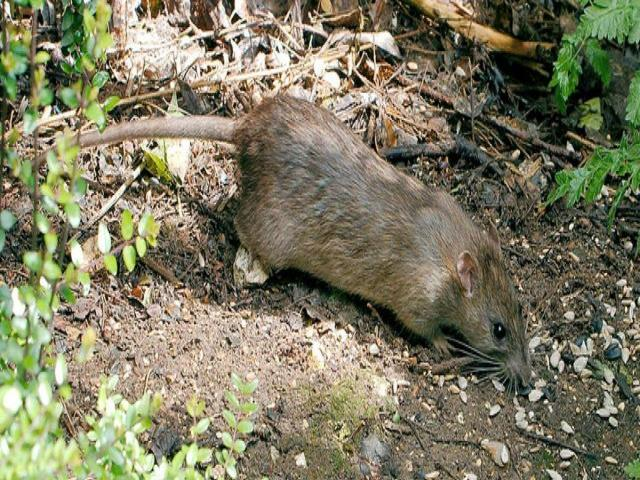Tikus: (163, 92, 535, 392)
